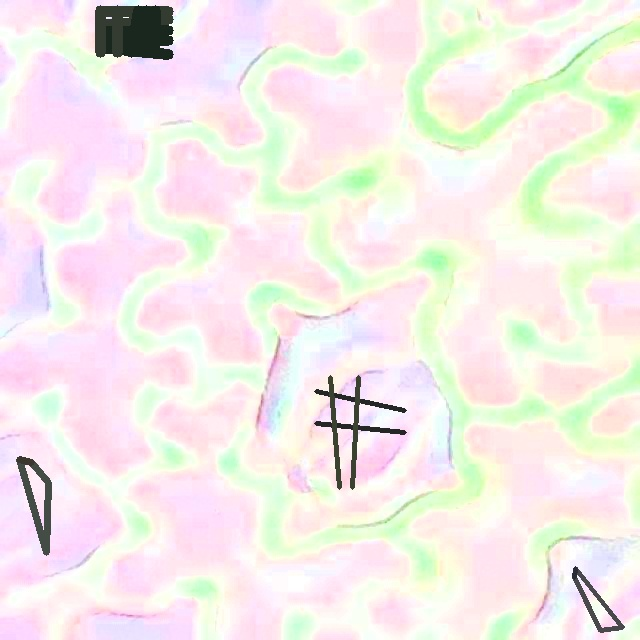open: (314, 375, 406, 489), (95, 5, 173, 57), (16, 459, 51, 555), (573, 566, 624, 631)
